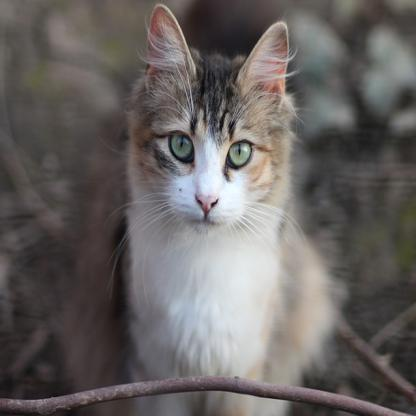cat: (128, 3, 334, 374)
